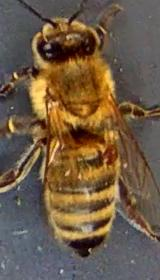varroa_mite: (97, 136, 122, 162)
